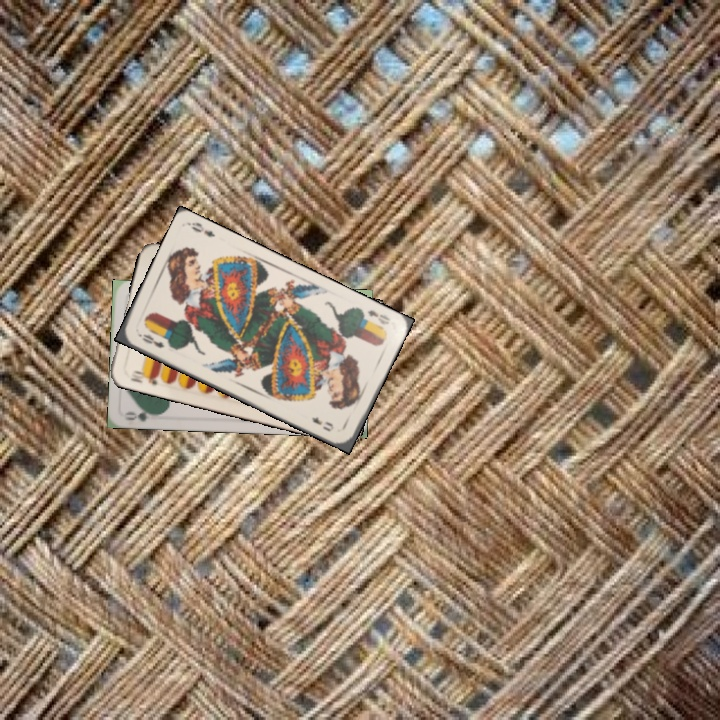E10: (127, 366, 161, 387)
EO: (356, 305, 393, 327), (134, 329, 167, 351)
GO: (122, 405, 163, 425)
